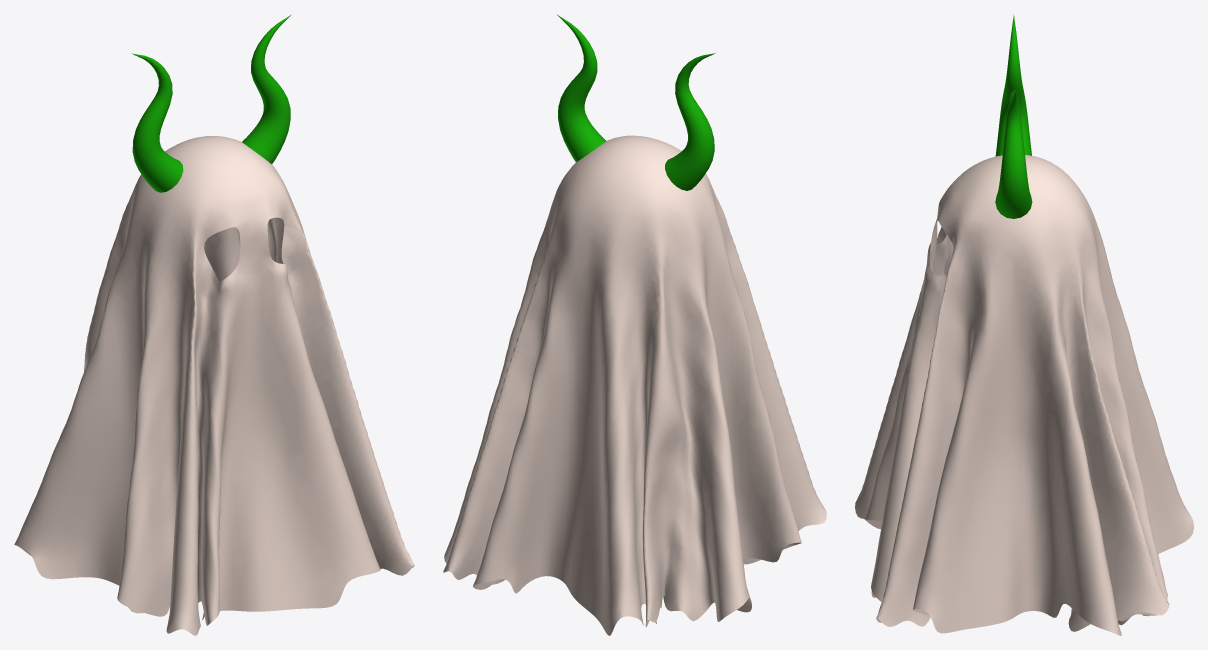
File: GhostMaleficent.fbx
3 views of the same model, side by side, from view 1: azimuth 30°, elevation 25°; view 2: azimuth 150°, elevation 25°; view 3: azimuth 270°, elevation 25° (orthographic). The views are drawn at different scales.
Parts seen in each view (by area): view 1: Plane.005; view 2: Plane.005; view 3: Plane.005.
Boxes of the visible parts, box(x1,y1,x2,y2) form: Plane.005: box(14, 14, 414, 635); Plane.005: box(443, 14, 826, 635); Plane.005: box(855, 14, 1193, 635).
Size of the model in its own units: 99.43 by 175 by 101.
